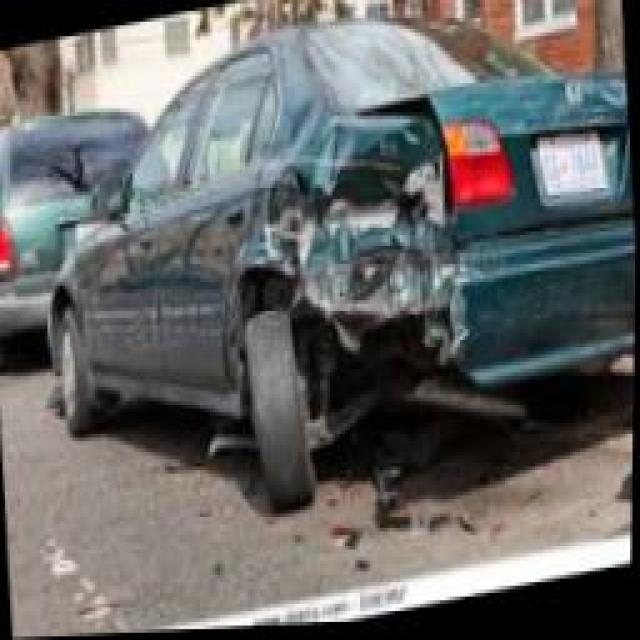Bumper: (311, 231, 636, 443)
Fender: (247, 120, 456, 315)
